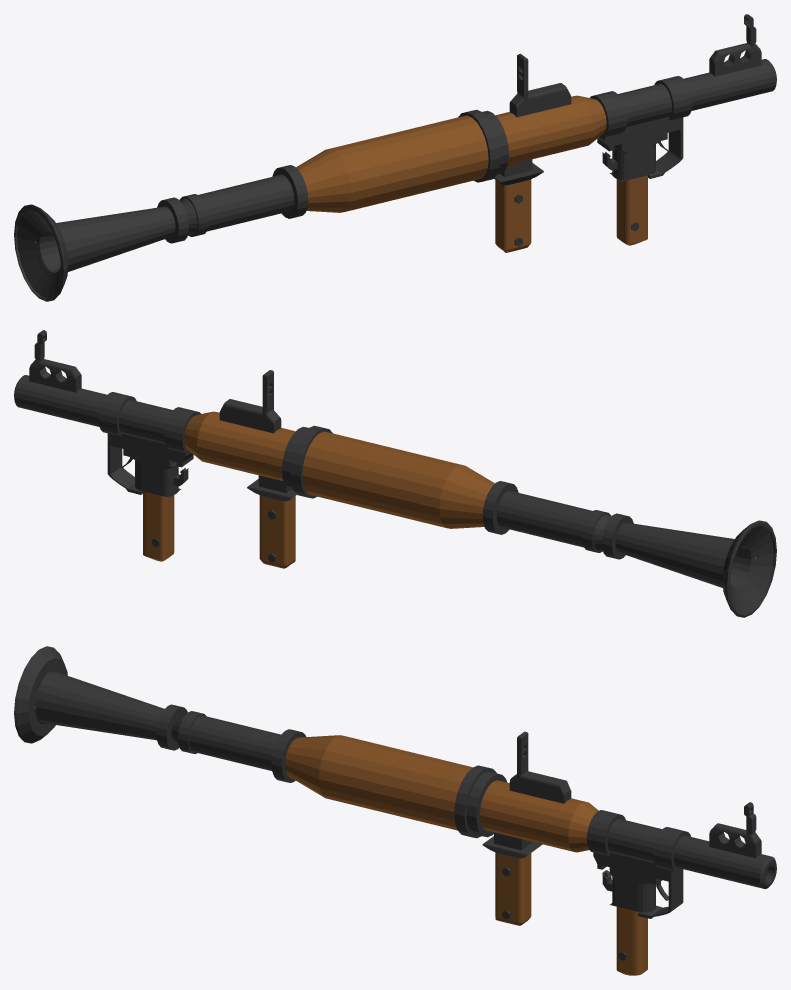
The model's file is Derringer.gltf.
The picture shows the model from 3 angles, top to bottom: view 1: azimuth 30°, elevation 25°; view 2: azimuth 150°, elevation 25°; view 3: azimuth 330°, elevation 25°; orthographic projection.
Visible parts, largest first — view 1: Cylinder; view 2: Cylinder; view 3: Cylinder.
Part boxes in pixels (x1,y1,x2,y2): Cylinder: (14,14,776,301); Cylinder: (14,330,776,617); Cylinder: (14,646,776,975).
Size of the model in its own units: 12.2 by 3.39 by 1.44.
